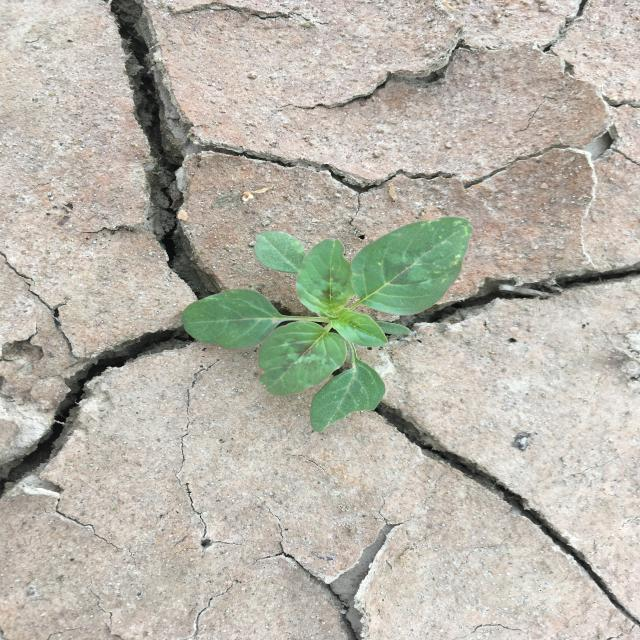PalmerAmaranth: (182, 216, 474, 433)
